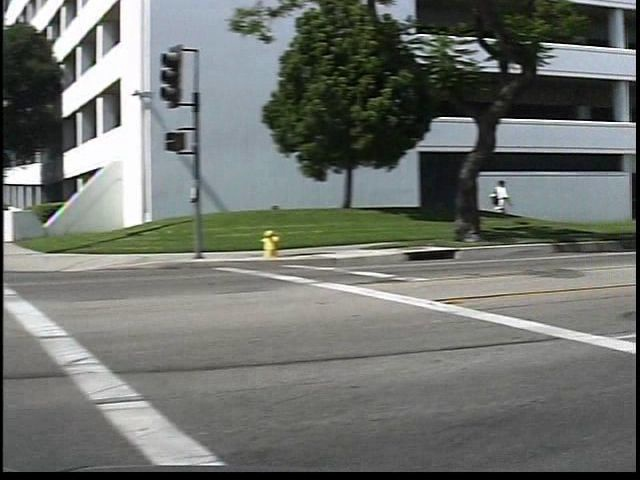person: (506, 174, 529, 234)
